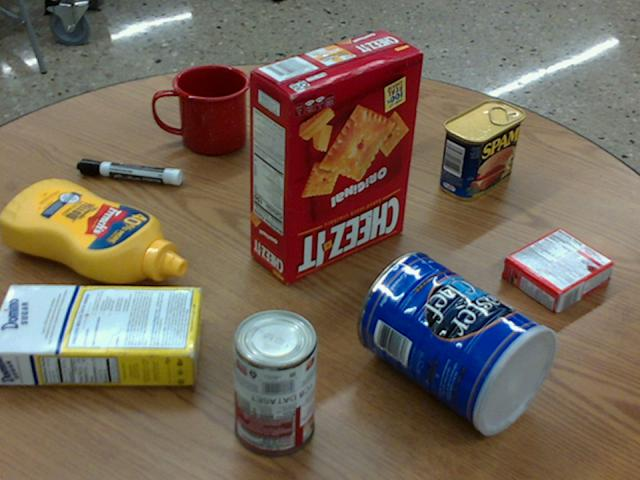cracker_box: (247, 28, 423, 284)
gelatin_box: (501, 226, 612, 311)
large_marker: (77, 159, 181, 184)
master_chef_can: (358, 250, 559, 434)
mug: (153, 65, 249, 155)
mustard_bottle: (0, 178, 186, 283)
potted_meat_can: (440, 99, 524, 200)
sugar_box: (0, 282, 201, 386)
tomato_soup_can: (233, 307, 319, 455)
tuna_fish_can: (322, 79, 393, 153)
